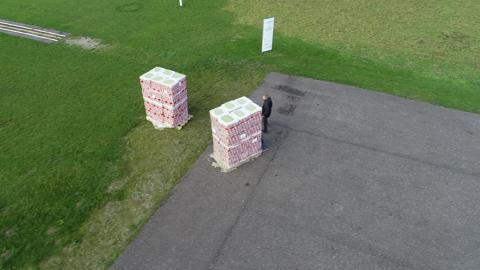RockwoolPallet: (136, 66, 190, 127)
